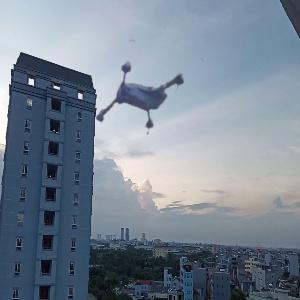drone: (98, 34, 204, 140)
